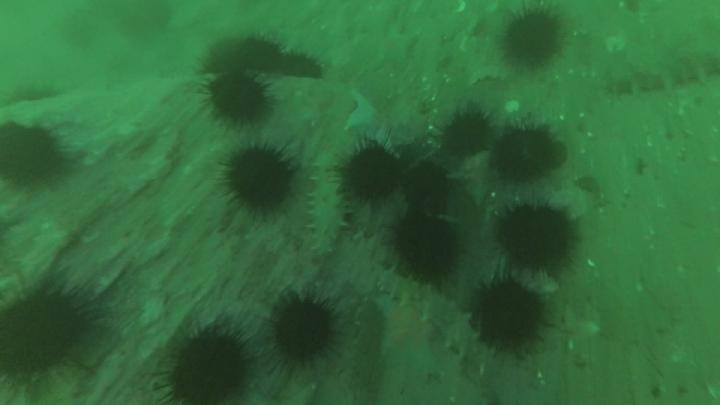echinus: (1, 278, 99, 385), (160, 327, 254, 404), (469, 275, 548, 353), (494, 202, 578, 274), (219, 142, 298, 216), (267, 292, 340, 367), (390, 212, 462, 283), (1, 121, 68, 190), (489, 123, 564, 184), (498, 5, 567, 70), (336, 141, 405, 205), (203, 70, 274, 127), (200, 32, 285, 76), (400, 159, 453, 214), (439, 108, 495, 159), (3, 78, 63, 109), (276, 48, 327, 83)
holothurian: (377, 267, 493, 372), (603, 43, 719, 99), (303, 152, 351, 260)
starfish: (370, 295, 443, 378), (344, 86, 421, 148), (451, 150, 498, 207), (374, 24, 421, 68)
